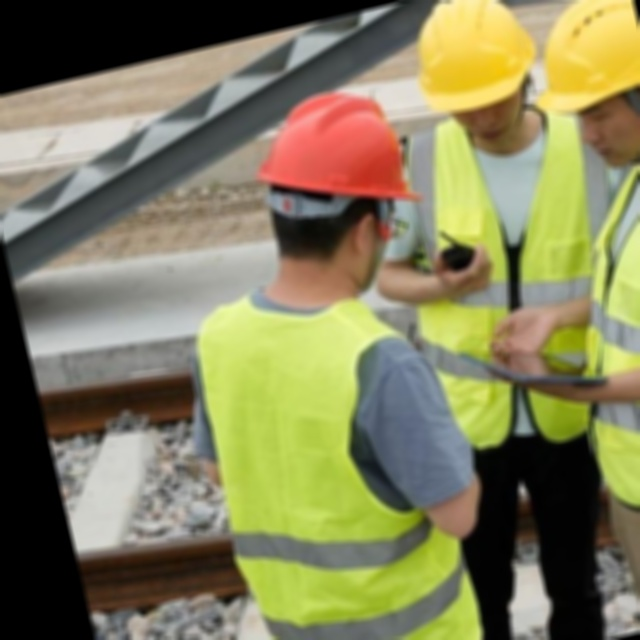Con_Casco: (244, 77, 438, 312), (402, 0, 552, 155), (517, 0, 640, 181)
Con_Chaleco: (178, 270, 500, 640), (536, 169, 640, 515)
